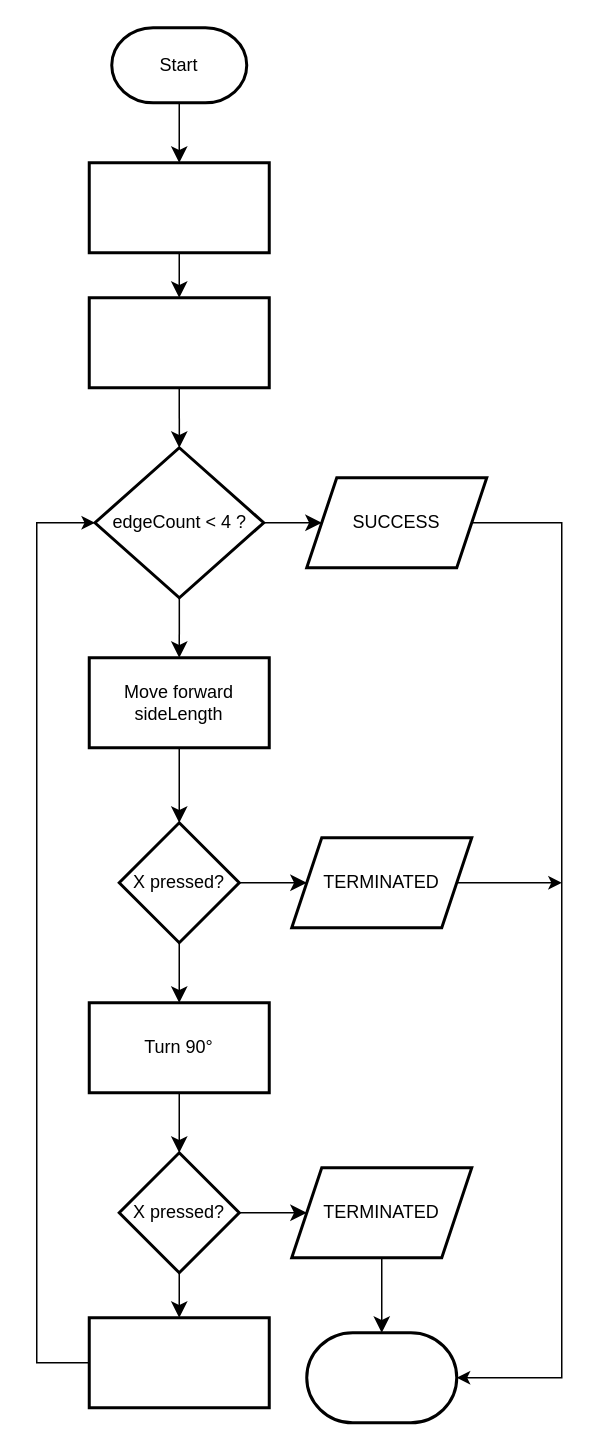
This 600x1449 diagram has some shape labels left out. Each missing label, with the centre of its shape:
Compute moveTime using calibration (sideLength): the point at 178,207
edgeCount = 0: the point at 178,342
edgeCount = edgeCount + 1: the point at 178,1362
End: the point at 381,1377
